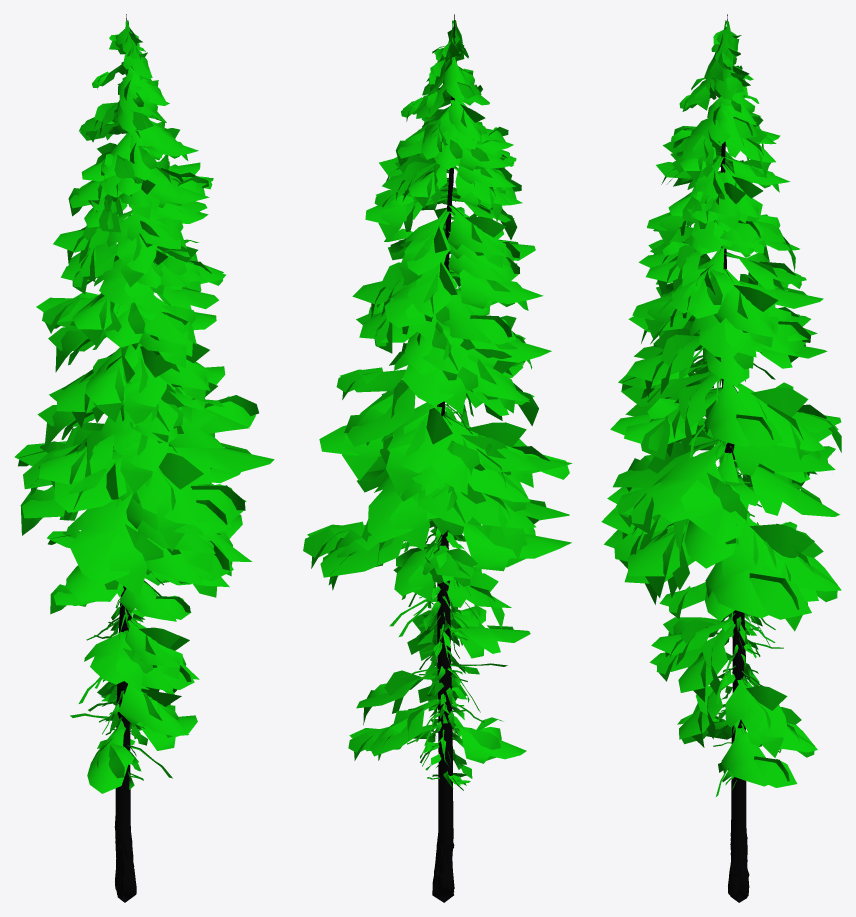
Rendered from pine_007_01.FBX.
3 views of the same model, side by side, from view 1: azimuth 30°, elevation 25°; view 2: azimuth 150°, elevation 25°; view 3: azimuth 270°, elevation 25° (orthographic).
Parts seen in each view (by area): view 1: pine_007_LOD0; view 2: pine_007_LOD0; view 3: pine_007_LOD0.
Boxes of the visible parts, x1,y1,x2,y2 form: pine_007_LOD0: [14, 14, 274, 902]; pine_007_LOD0: [303, 14, 572, 902]; pine_007_LOD0: [601, 14, 841, 902].
Size of what is drawn, in the model's own units: 835 by 3179 by 782.
